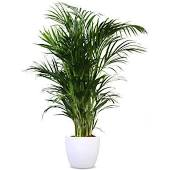plant: (26, 3, 149, 170)
